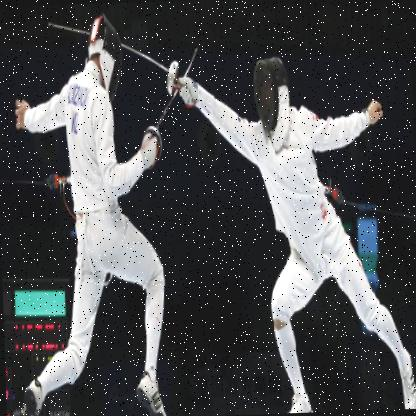fencer: (162, 23, 415, 415), (3, 9, 184, 415)
